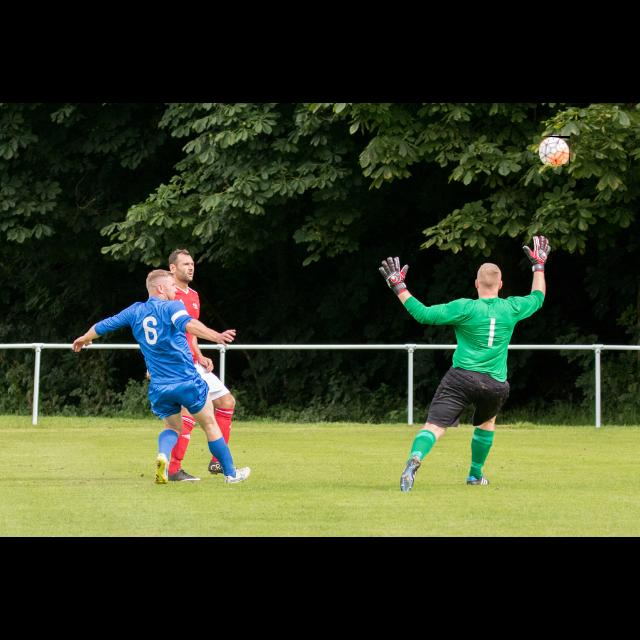Football: (540, 136, 570, 164)
